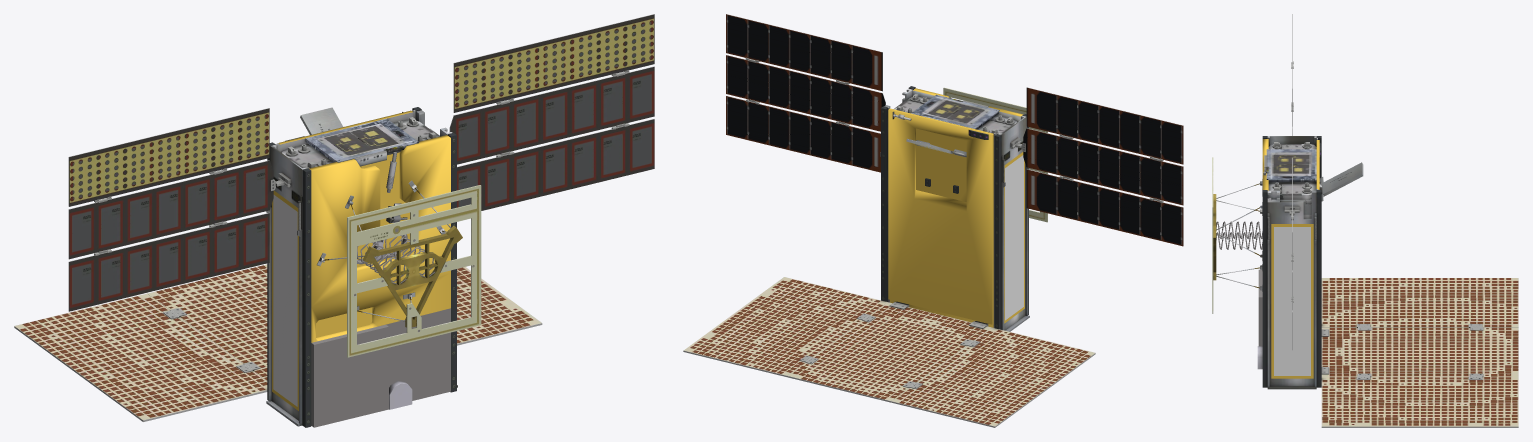
Rendered from marco.glb.
3 views of the same model, side by side, from view 1: azimuth 30°, elevation 25°; view 2: azimuth 150°, elevation 25°; view 3: azimuth 270°, elevation 25° (orthographic). The views are drawn at different scales.
Visible parts, largest first — view 1: MarCo_BUS, Reflectarray_left, Antenna, Array_left_middle, Array_left_top, Array_right_top, Array_left_bottom, Array_right_middle, Array_right_bottom, Reflectarray_middle, silver_squares_side, Reflectarray_right (+2 smaller); view 2: MarCo_BUS, Reflectarray_left, Reflectarray_middle, Reflectarray_right, Array_left_middle, Array_left_top, Array_left_bottom, Array_right_top, Array_right_middle, Array_right_bottom, silver_squares_side, Antenna; view 3: Reflectarray_right, Reflectarray_middle, Reflectarray_left, MarCo_BUS, silver_squares_side, Antenna, gold_tape_sides, Antenna_Springs.
Boxes of the visible parts, bbox=[...] form: MarCo_BUS: bbox=[267, 107, 456, 427]; Reflectarray_left: bbox=[14, 293, 267, 421]; Antenna: bbox=[266, 107, 481, 426]; Array_left_middle: bbox=[68, 160, 275, 259]; Array_left_top: bbox=[68, 108, 269, 206]; Array_right_top: bbox=[453, 14, 654, 112]; Array_left_bottom: bbox=[68, 212, 269, 311]; Array_right_middle: bbox=[449, 66, 654, 164]; Array_right_bottom: bbox=[457, 119, 654, 210]; Reflectarray_middle: bbox=[147, 264, 267, 380]; silver_squares_side: bbox=[273, 195, 297, 406]; Reflectarray_right: bbox=[457, 267, 542, 345]; MarCo_BUS: bbox=[881, 86, 1028, 330]; Reflectarray_left: bbox=[891, 327, 1095, 427]; Reflectarray_middle: bbox=[787, 301, 991, 402]; Reflectarray_right: bbox=[683, 277, 887, 376]; Array_left_middle: bbox=[1021, 128, 1183, 205]; Array_left_top: bbox=[1026, 87, 1183, 164]; Array_left_bottom: bbox=[1026, 169, 1183, 246]; Array_right_top: bbox=[726, 14, 882, 91]; Array_right_middle: bbox=[726, 55, 885, 131]; Array_right_bottom: bbox=[726, 96, 880, 172]; silver_squares_side: bbox=[1005, 155, 1023, 320]; Antenna: bbox=[880, 87, 1047, 331]; Reflectarray_right: bbox=[1321, 376, 1518, 427]; Reflectarray_middle: bbox=[1321, 327, 1518, 376]; Reflectarray_left: bbox=[1321, 278, 1518, 327]; MarCo_BUS: bbox=[1257, 136, 1321, 387]; silver_squares_side: bbox=[1274, 227, 1310, 375]; Antenna: bbox=[1212, 157, 1363, 389]; gold_tape_sides: bbox=[1271, 224, 1313, 378]; Antenna_Springs: bbox=[1216, 221, 1262, 249].
Size of the model in its own units: 0.887 by 0.448 by 0.5264.
7 materials, 3 textured.
